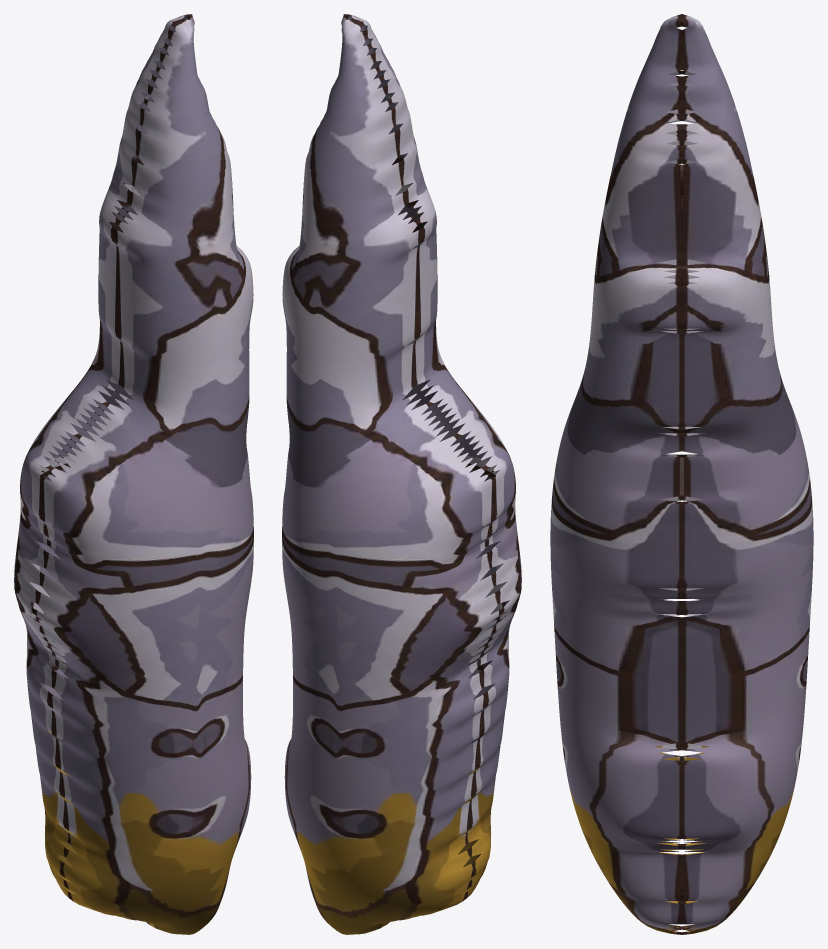
The model's file is edge_bulkhead.glb.
The picture shows the model from 3 angles, left to right: view 1: azimuth 30°, elevation 25°; view 2: azimuth 150°, elevation 25°; view 3: azimuth 270°, elevation 25°; orthographic projection.
Visible parts, largest first — view 1: edge_bulkhead; view 2: edge_bulkhead; view 3: edge_bulkhead.
Boxes of the visible parts, bbox=[...] form: edge_bulkhead: bbox=[14, 14, 253, 934]; edge_bulkhead: bbox=[282, 14, 521, 934]; edge_bulkhead: bbox=[550, 14, 813, 934].
Size of the model in its own units: 0.9535 by 4.1 by 1.06.
Materials: 1 (1 with a texture image).
